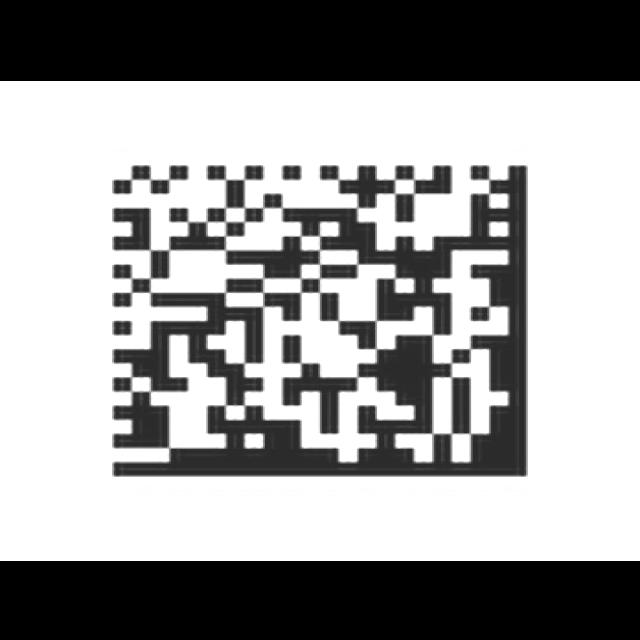DataMatrix: (98, 155, 544, 487)
